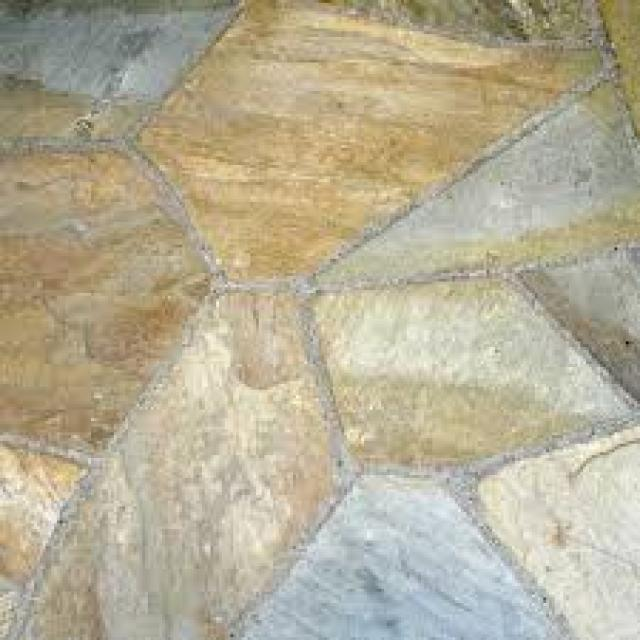Metamorphic: (6, 3, 637, 637)
